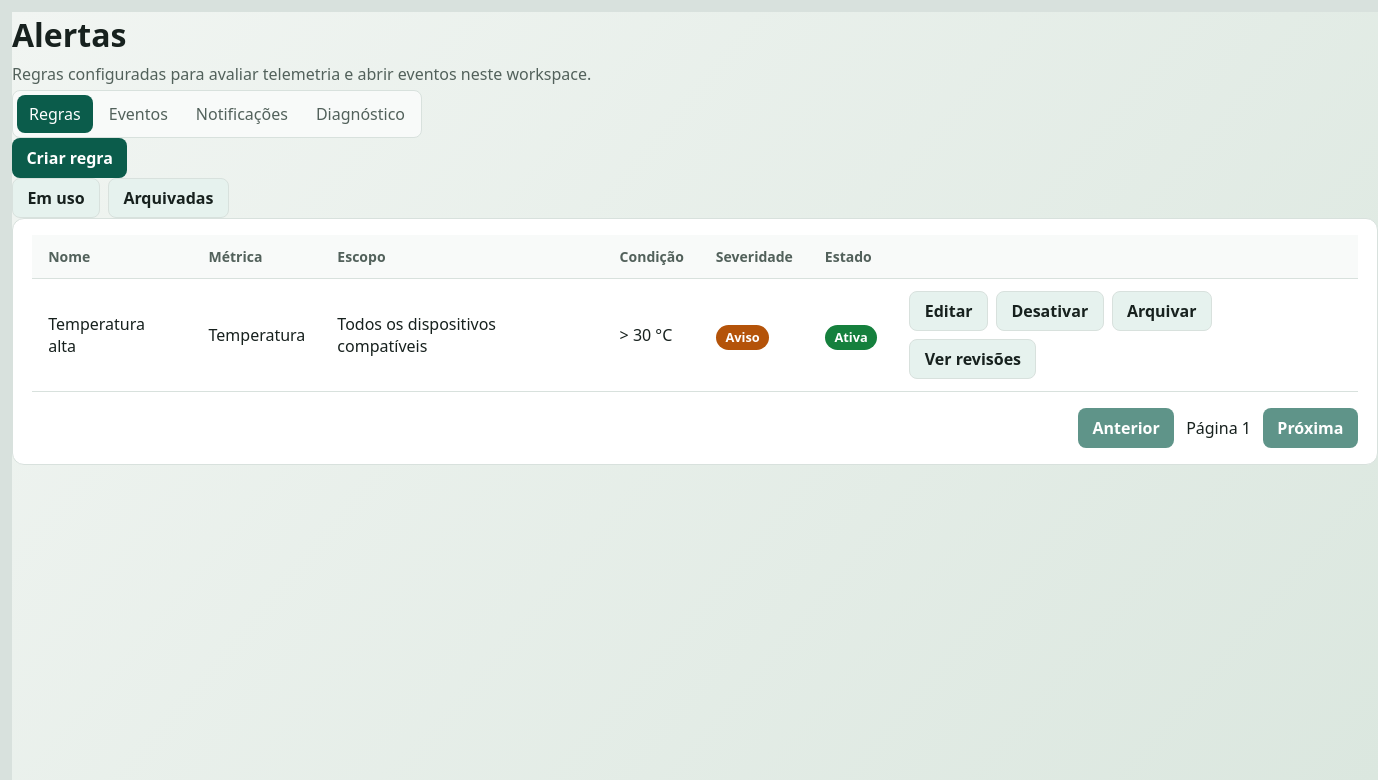
Scenario: AlertRulesPage › mostra um erro seguro e preserva o botão anterior quando o toggle falha
Expected: the text "Temperatura alta" is shown, [32, 279, 192, 391]
Click the button "Desativar" at (1050, 311), box [996, 291, 1104, 331]
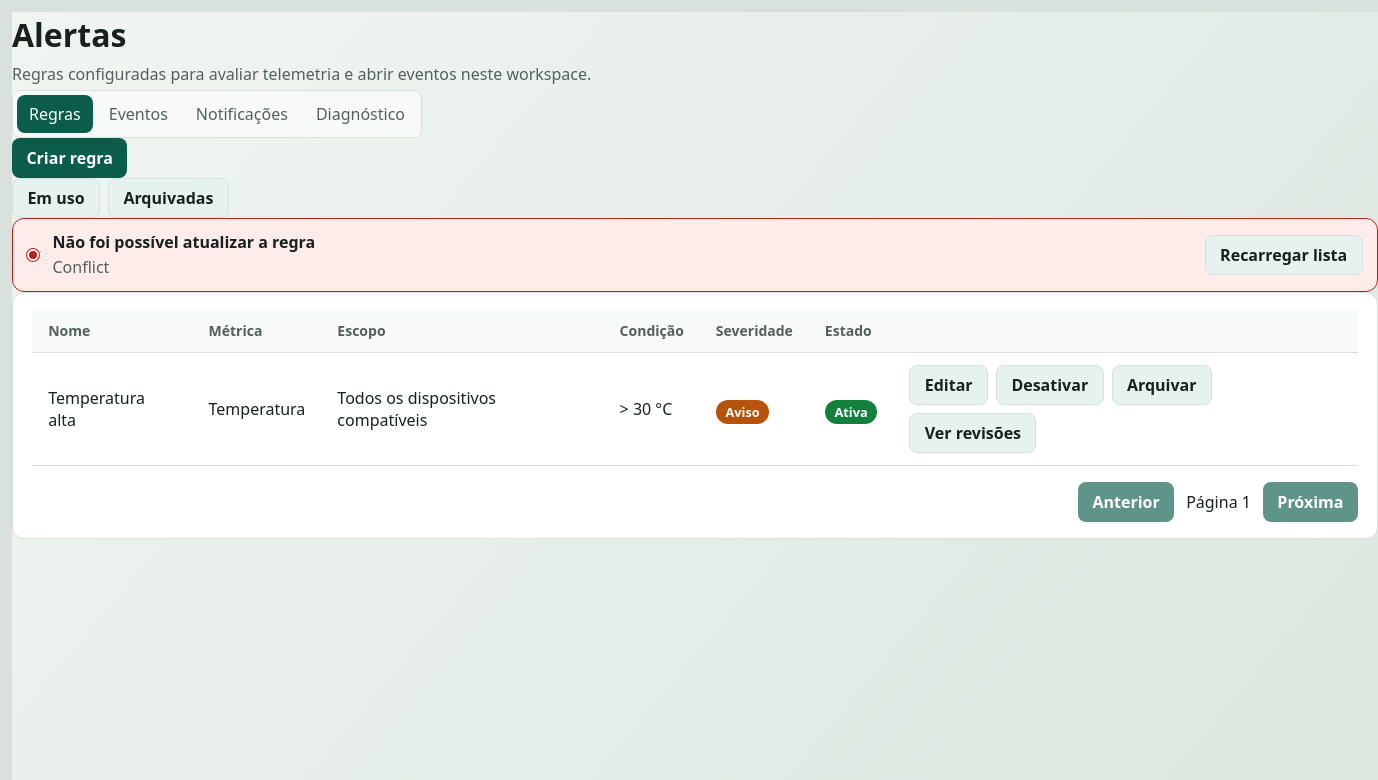
Expected: the button "Desativar" is shown, [996, 365, 1104, 405]
Expected: the text "Não foi possível atualizar a regra" is shown, [52, 231, 315, 253]
